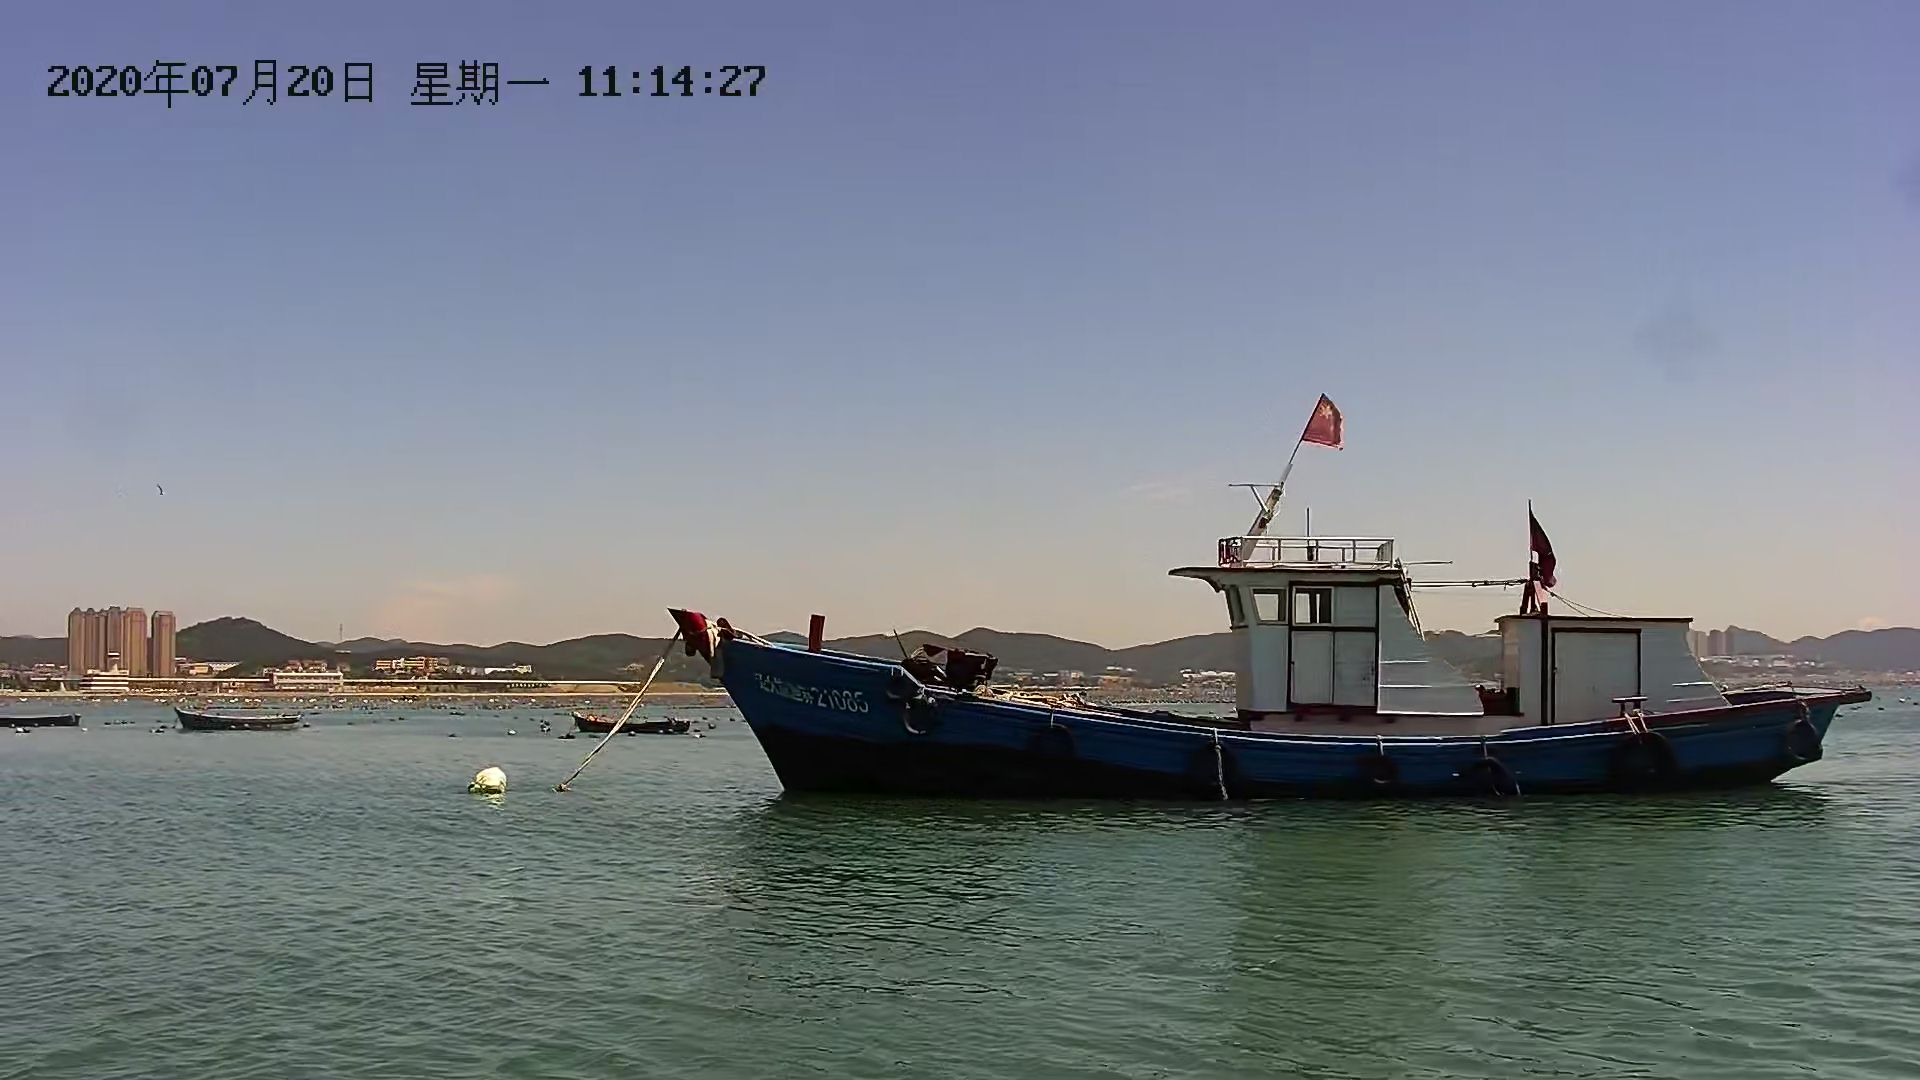ball: (469, 765, 521, 799)
boat: (667, 541, 1880, 812), (170, 705, 313, 735), (566, 708, 699, 736), (1, 713, 94, 729)
